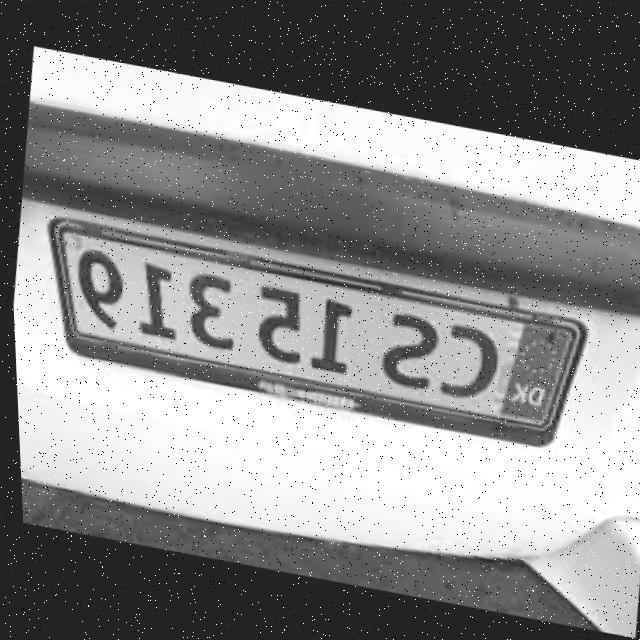license-plates: (46, 217, 581, 445)
